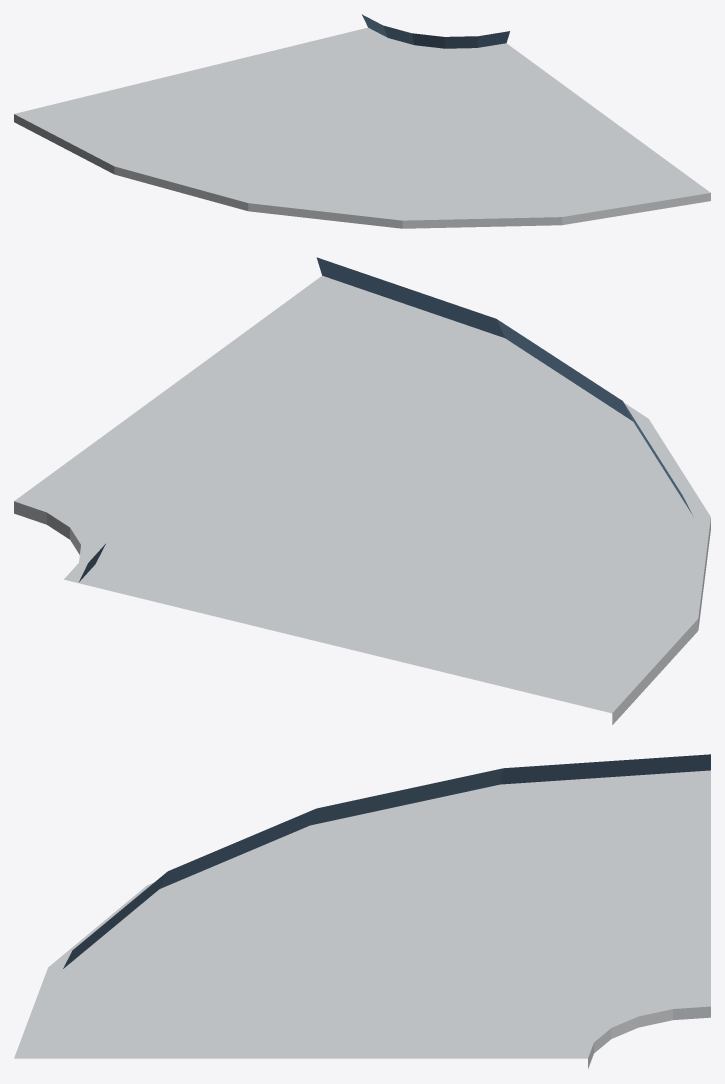
The model's file is road_industrial_x_curve_lod1.glb.
The picture shows the model from 3 angles, top to bottom: view 1: azimuth 30°, elevation 25°; view 2: azimuth 150°, elevation 25°; view 3: azimuth 270°, elevation 25°; orthographic projection. The views are drawn at different scales.
Visible parts, largest first — view 1: body; view 2: body; view 3: body.
Boxes of the visible parts, x1,y1,x2,y2 form: body: (14, 14, 710, 228); body: (14, 257, 710, 724); body: (14, 754, 710, 1068).
Size of the model in its own units: 6.8 by 0.34 by 6.8.
